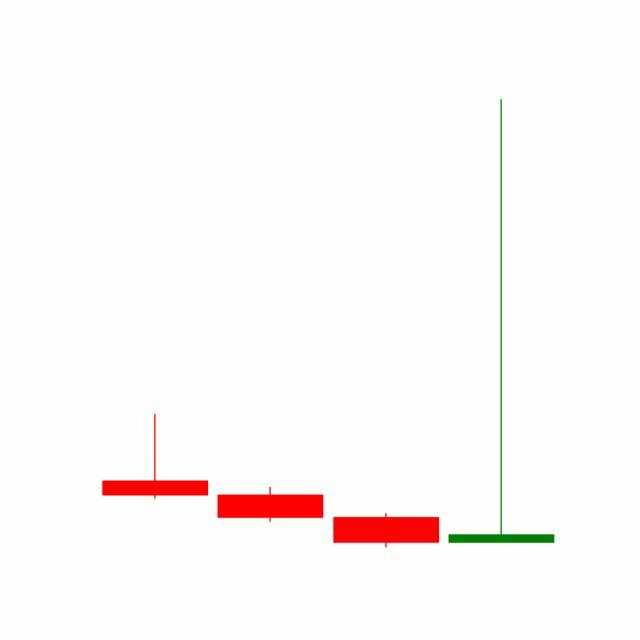Marubozu: (329, 512, 445, 549)
